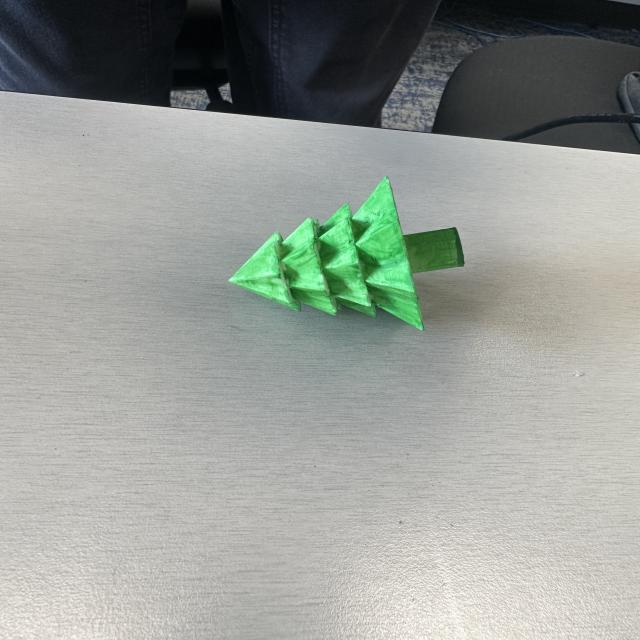tree: (227, 175, 466, 332)
